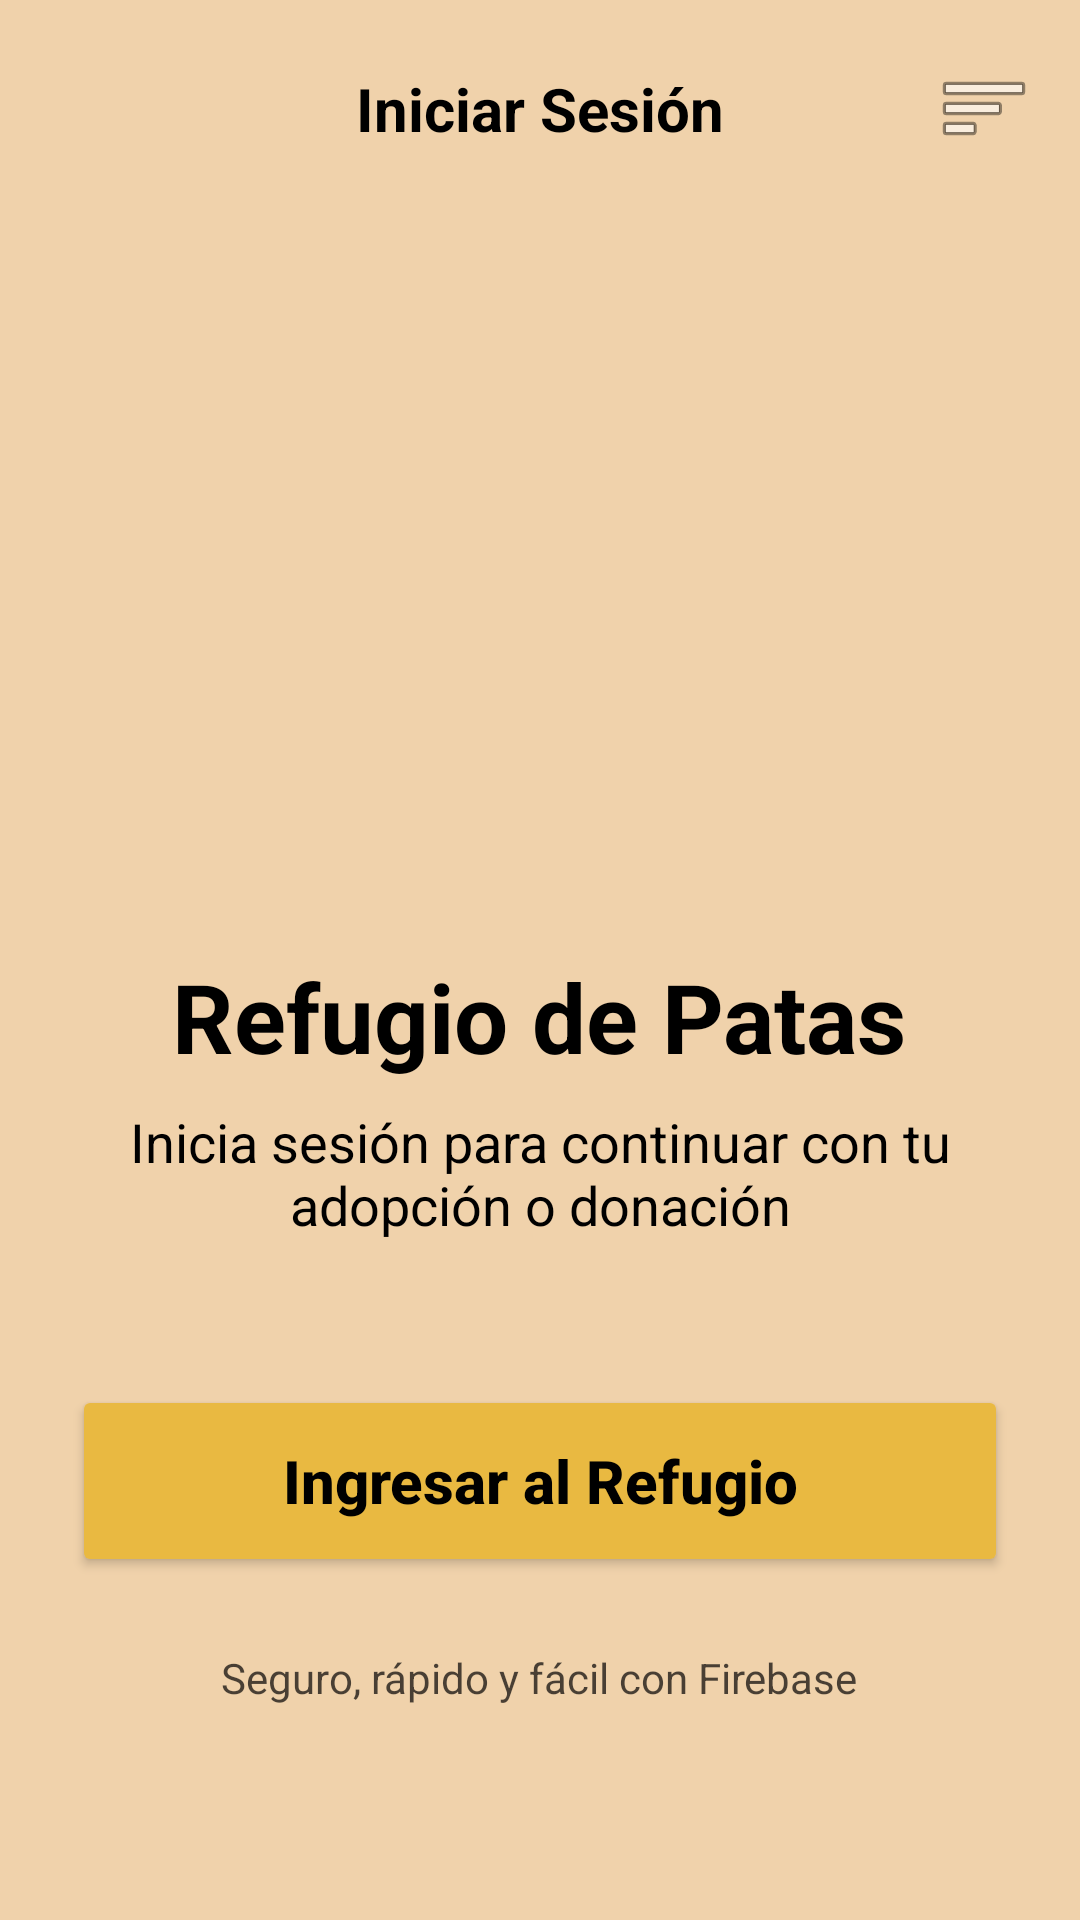

Named icons in this screenshot (1080x1920) and their bounding boxes, (x1, y1, x2, y2):
Menu: (943, 82, 1025, 135)
